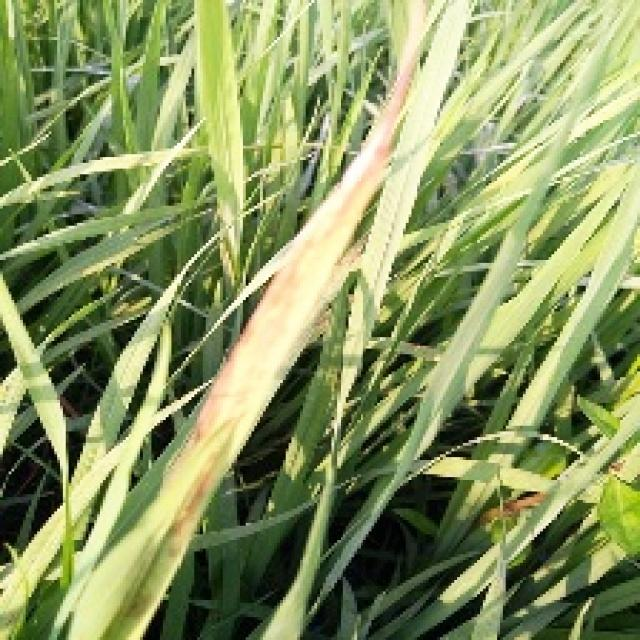health: (3, 0, 268, 280)
